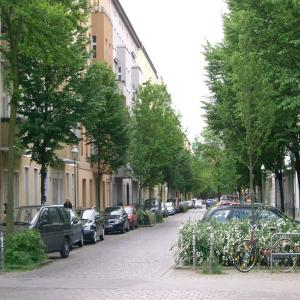Vehicle-registration-plate: (106, 226, 114, 229)
